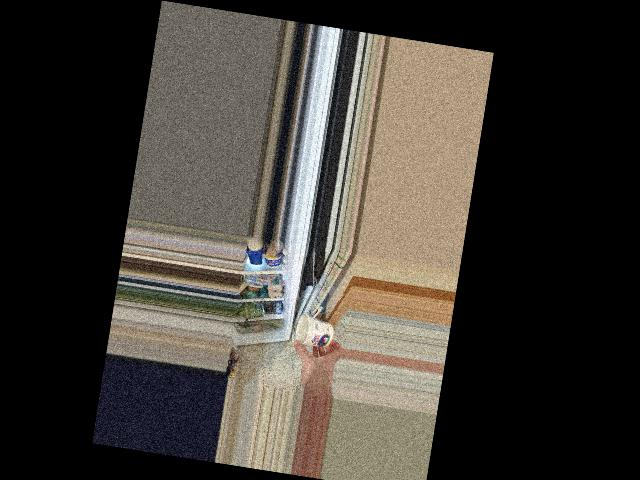cotage: (290, 311, 339, 358)
